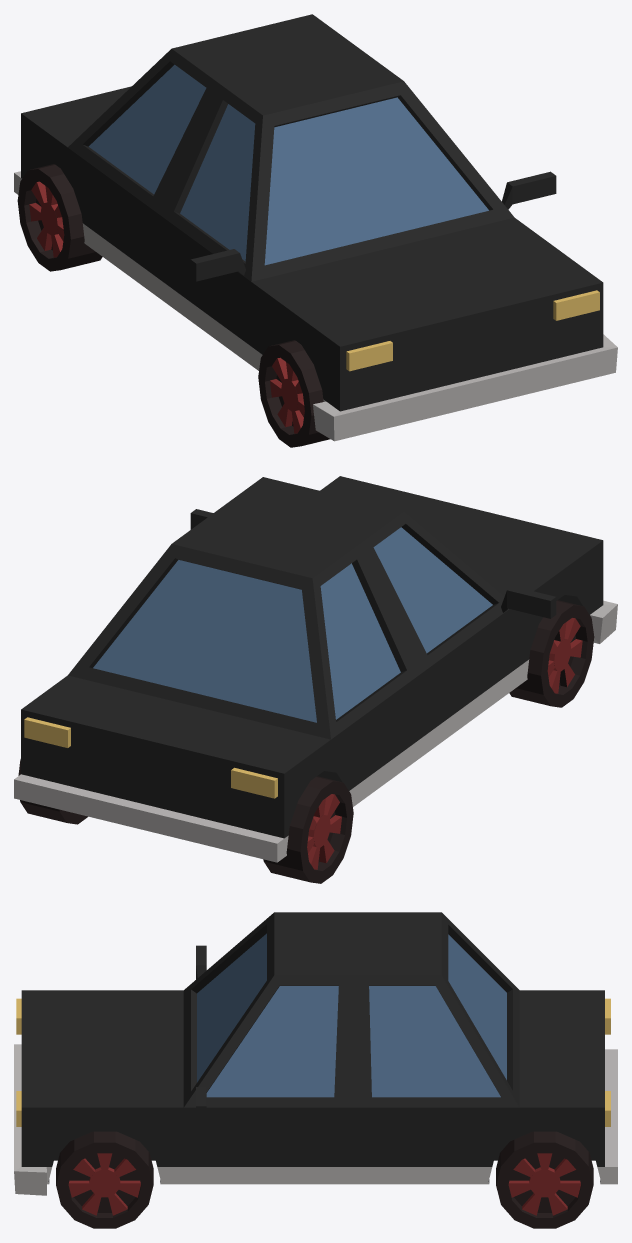
The model's file is Car.glb.
The picture shows the model from 3 angles, top to bottom: view 1: azimuth 30°, elevation 25°; view 2: azimuth 150°, elevation 25°; view 3: azimuth 270°, elevation 25°; orthographic projection. The views are drawn at different scales.
Parts seen in each view (by area): view 1: chassis, wheel_back_right, wheel_front_right, mirrors, front_lights; view 2: chassis, wheel_back_right, wheel_front_right, back_lights, mirrors, wheel_back_left; view 3: chassis, wheel_front_left, wheel_back_left, mirrors, front_lights, back_lights.
Boxes of the visible parts, box(x1,y1,x2,y2) form: chassis: box(14, 14, 617, 441); wheel_back_right: box(17, 164, 102, 271); wheel_front_right: box(258, 340, 330, 447); mirrors: box(190, 171, 556, 281); front_lights: box(346, 290, 599, 371); chassis: box(14, 476, 617, 862); wheel_back_right: box(263, 776, 353, 883); wheel_front_right: box(509, 600, 594, 707); back_lights: box(24, 717, 277, 798); mirrors: box(190, 509, 556, 618); wheel_back_left: box(18, 759, 87, 824); chassis: box(14, 912, 617, 1195); wheel_front_left: box(56, 1131, 153, 1228); wheel_back_left: box(496, 1131, 593, 1228); mirrors: box(196, 945, 206, 1122); front_lights: box(16, 998, 21, 1126); back_lights: box(605, 998, 610, 1126).
Bounding box in the file's own units: 2.73 × 1.76 × 4.34.
